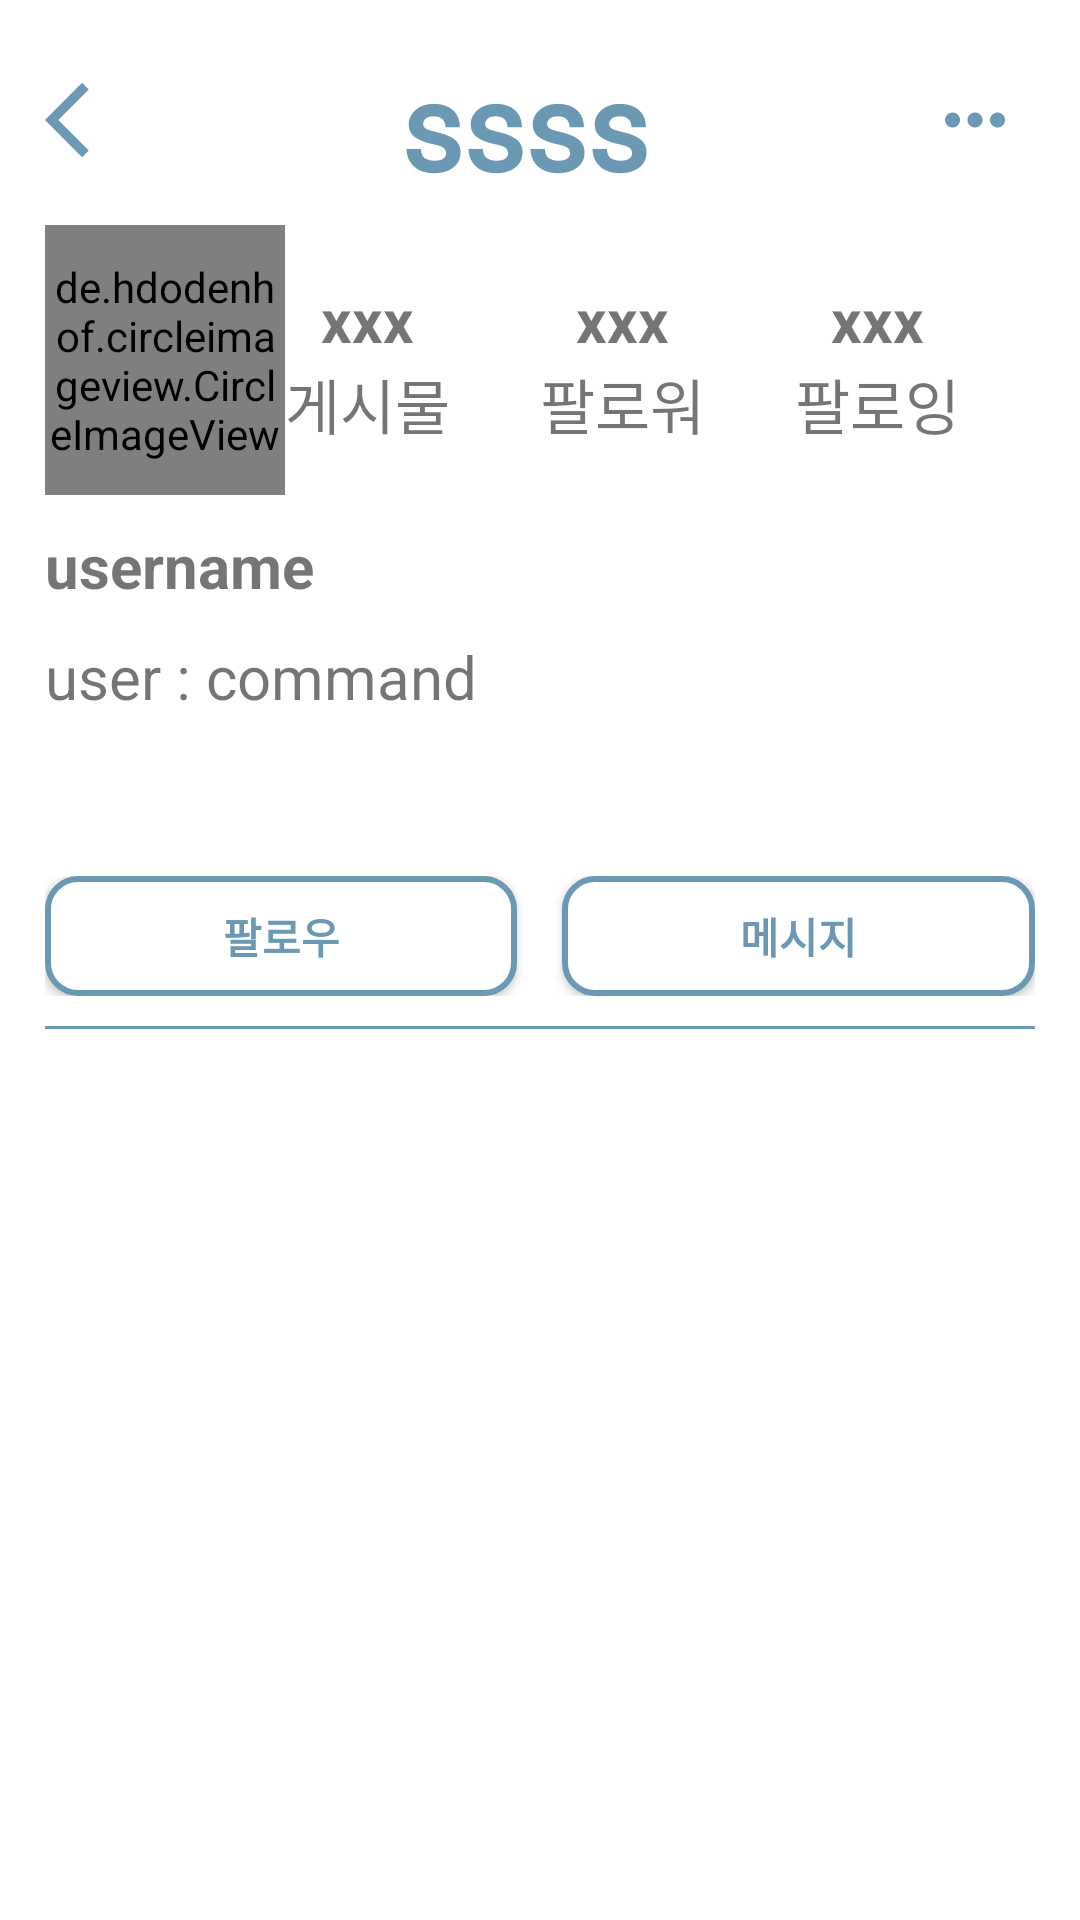

Icon bounding boxes for this 1080x1920 phone screenshot, format detection(x1, y1, x2, y2):
arrow back: detection(45, 83, 89, 157)
more horiz: detection(945, 112, 1005, 128)
